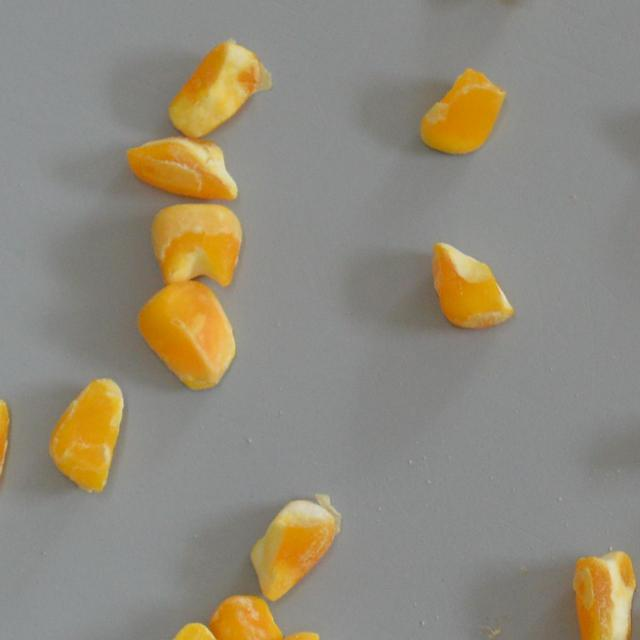pelicula: (138, 274, 238, 390), (249, 489, 342, 606), (167, 37, 273, 138), (47, 374, 130, 499), (125, 119, 241, 202), (426, 228, 518, 329), (414, 67, 507, 160), (148, 198, 244, 286), (560, 535, 640, 640), (202, 588, 286, 640), (147, 619, 244, 640), (0, 395, 16, 518)
